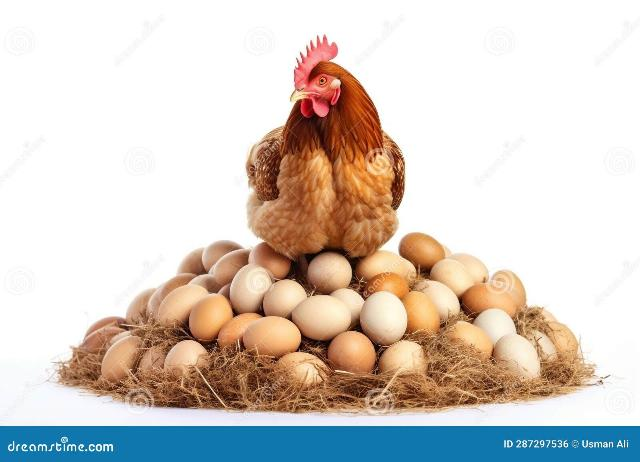Chicken: (245, 32, 407, 263)
